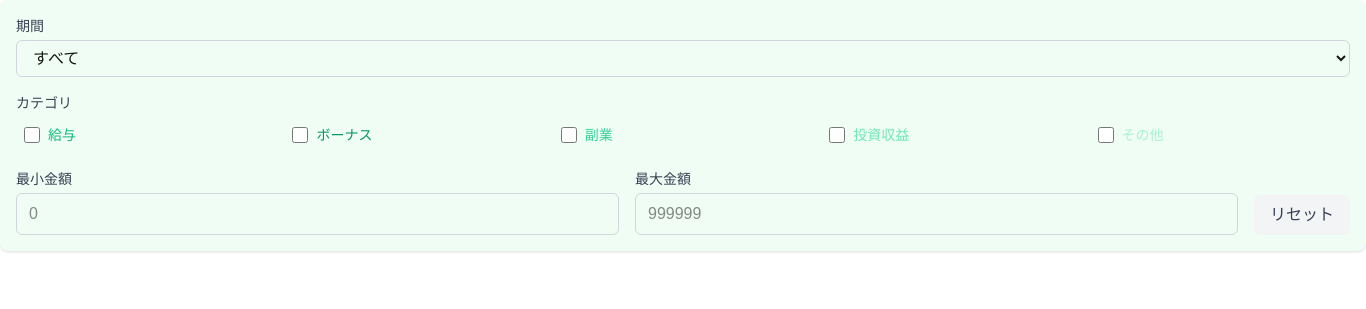
Scenario: IncomeFilters › リセットボタンですべてのフィルターがクリアされること
フィルターを設定
Select "今月" in the dropdown labelled "期間": [683, 58] box [16,40,1350,77]
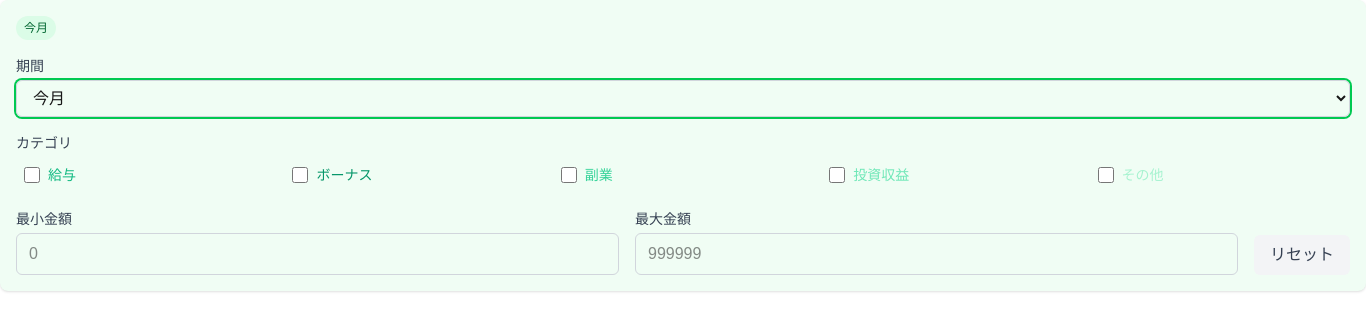
Click the checkbox labelled "給与": [32, 175] box [24,167,40,183]
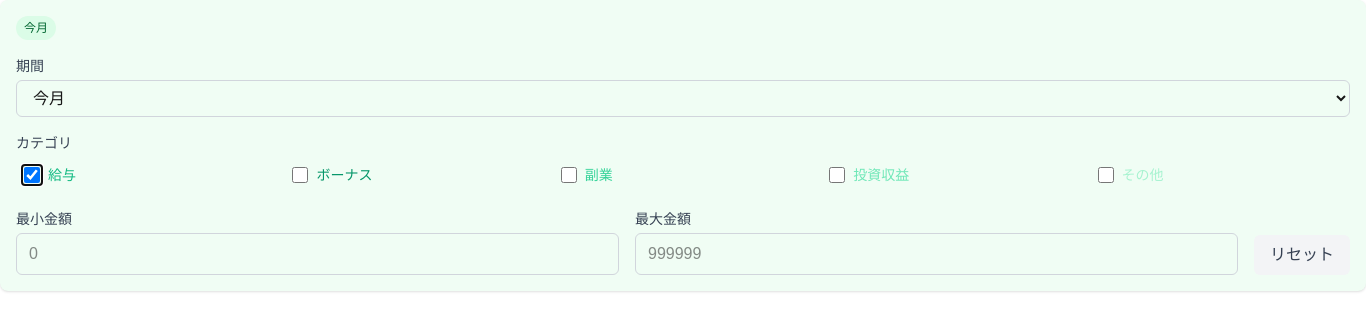
In the number field labelled "最小金額": [318, 254] box [16,233,619,275], type "10000"
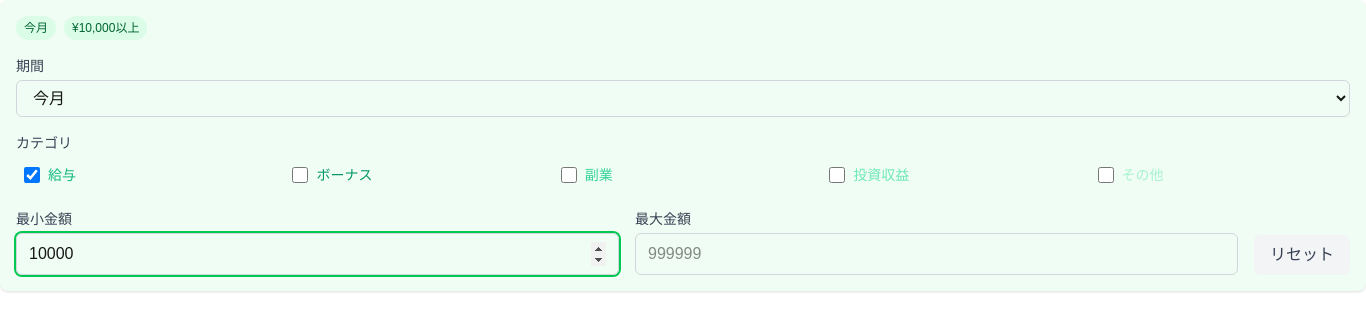
リセットボタンをクリック
Click the button "リセット": [1302, 255] box [1254,235,1350,275]
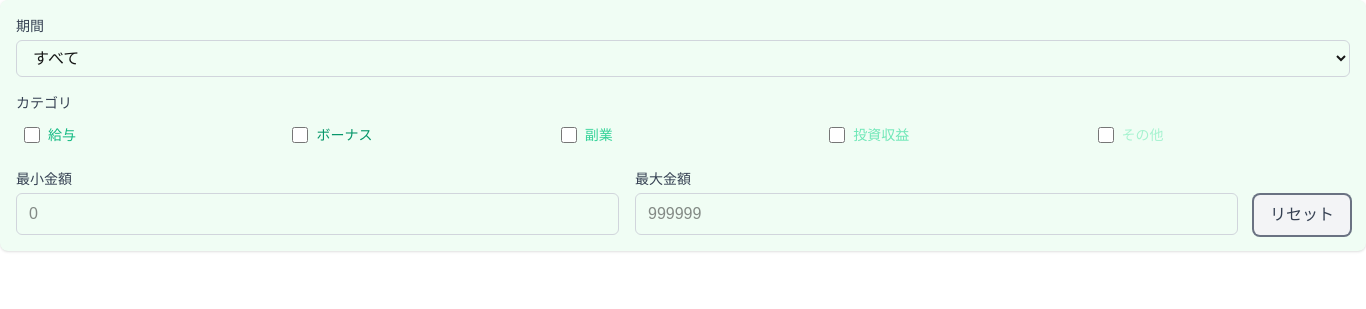
expect the checkbox labelled "給与" is not checked: met, box [24,127,40,143]
expect the number field labelled "最小金額" is empty: met, box [16,193,619,235]
